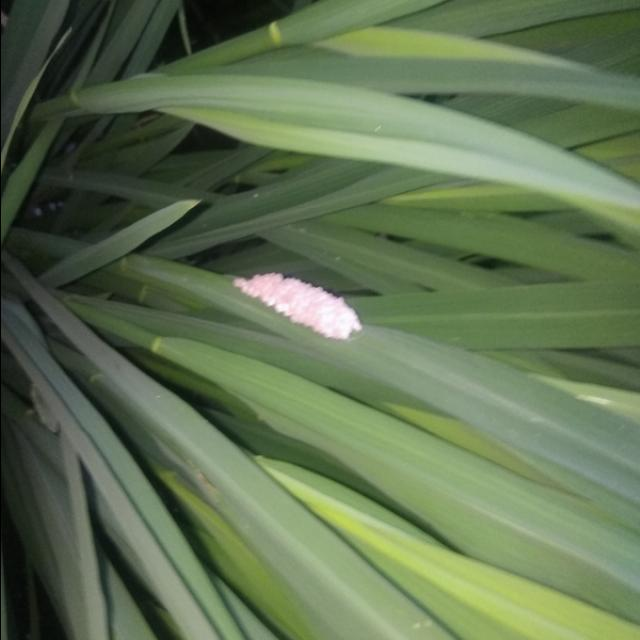Leaf blast: (222, 246, 369, 348)
